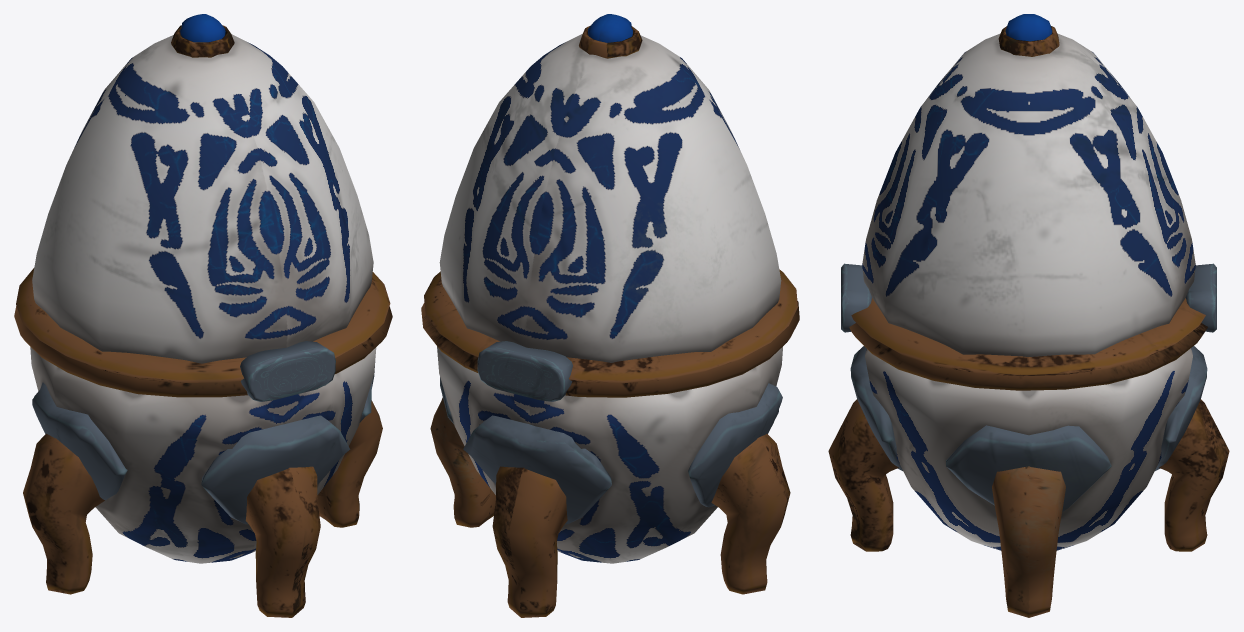
File: EggCasket.fbx
3 views of the same model, side by side, from view 1: azimuth 30°, elevation 25°; view 2: azimuth 150°, elevation 25°; view 3: azimuth 270°, elevation 25° (orthographic).
Parts seen in each view (by area): view 1: EggCasket; view 2: EggCasket; view 3: EggCasket.
Part boxes in pixels (x1,y1,x2,y2): EggCasket: [14, 14, 392, 617]; EggCasket: [421, 14, 799, 617]; EggCasket: [828, 14, 1229, 617].
Size of the model in its own units: 36.89 by 53.47 by 36.89.
